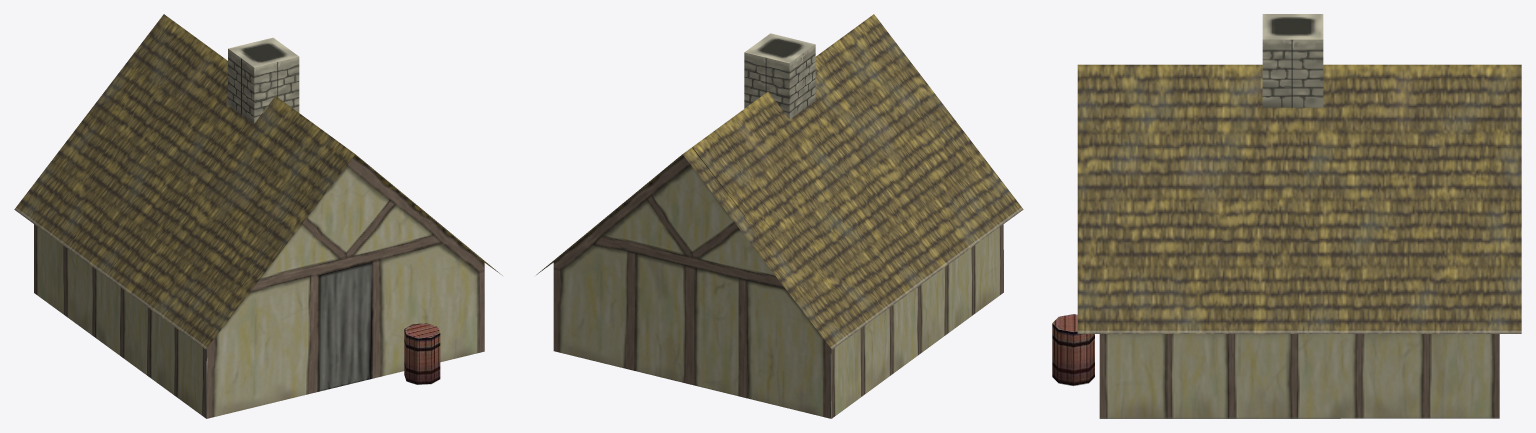
The model's file is house3.fbx.
3 views of the same model, side by side, from view 1: azimuth 30°, elevation 25°; view 2: azimuth 150°, elevation 25°; view 3: azimuth 270°, elevation 25° (orthographic). The views are drawn at different scales.
Visible parts, largest first — view 1: polySurface13; view 2: polySurface13; view 3: polySurface13.
Part boxes in pixels (x1,y1,x2,y2): polySurface13: (14,14,502,418); polySurface13: (536,14,1023,418); polySurface13: (1052,14,1521,418).
Bounding box in the file's own units: 6.61 × 5.74 × 7.76.
1 material, 1 textured.
